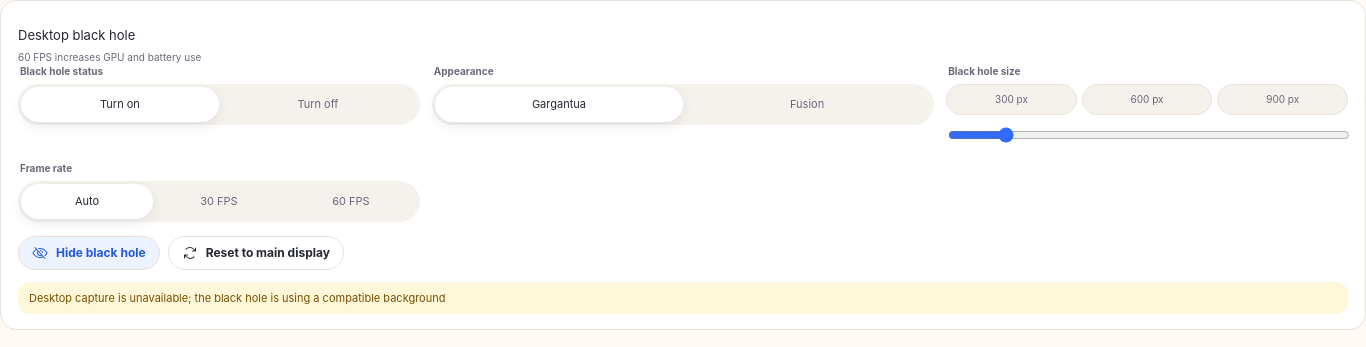
it: turns off atomically and disables visibility controls
Click the button "Turn off" at (318, 104), box [219, 87, 417, 122]
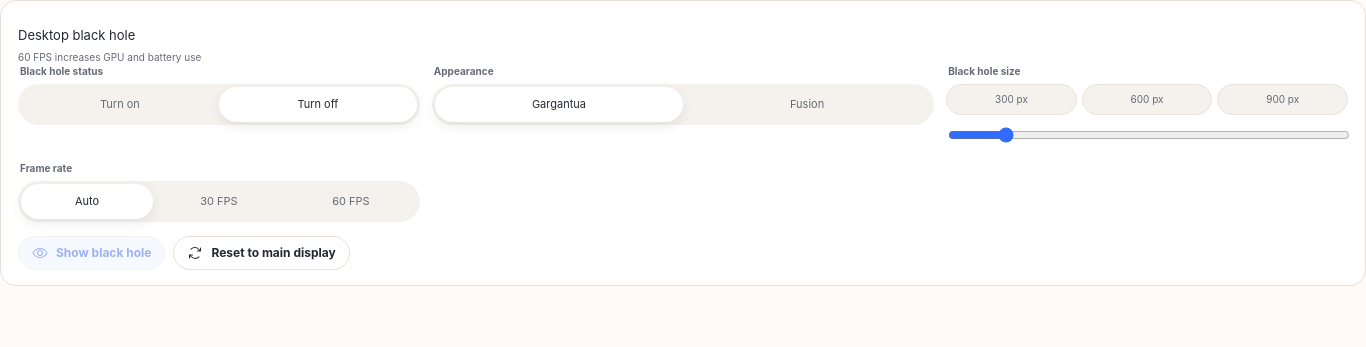
Result: the button "Show black hole" is disabled at [18, 236, 166, 270]
